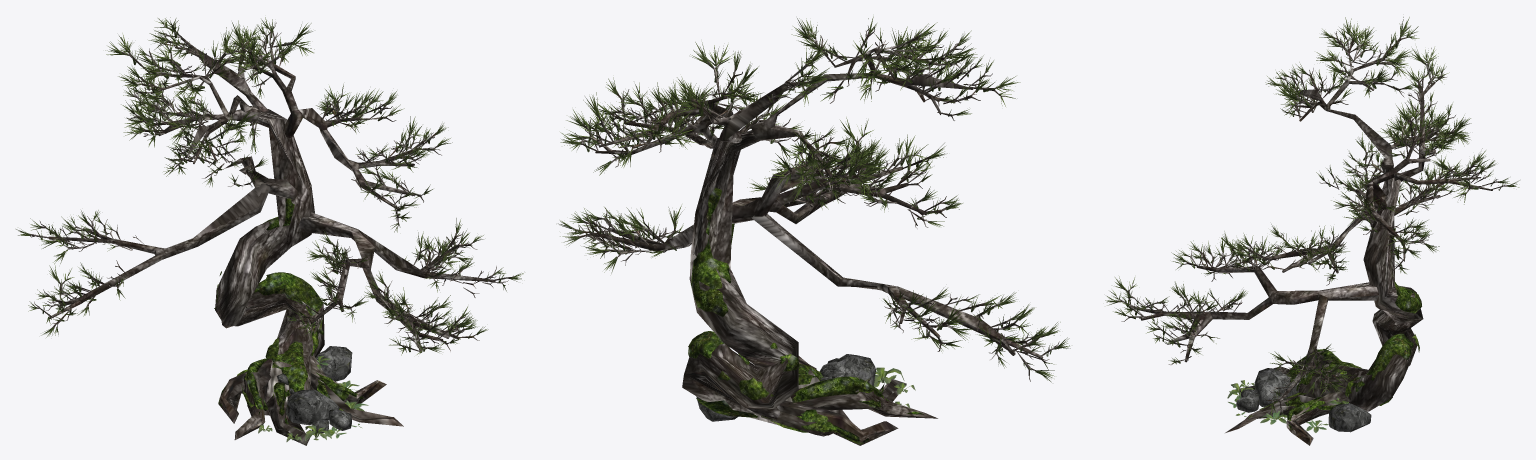
The model's file is pino.glb.
The picture shows the model from 3 angles, left to right: view 1: azimuth 30°, elevation 25°; view 2: azimuth 150°, elevation 25°; view 3: azimuth 270°, elevation 25°; orthographic projection. The views are drawn at different scales.
Visible parts, largest first — view 1: Pine.Shape_Pine_0 (×2), Pine.Shape_Leaves_0 (×2), Pine.Shape_Moss_0, Pine.Shape_Stone_0, Pine.Shape_Weeds_0; view 2: Pine.Shape_Pine_0 (×2), Pine.Shape_Leaves_0 (×2), Pine.Shape_Moss_0, Pine.Shape_Stone_0; view 3: Pine.Shape_Pine_0 (×2), Pine.Shape_Leaves_0 (×2), Pine.Shape_Moss_0, Pine.Shape_Stone_0, Pine.Shape_Weeds_0.
Part boxes in pixels (bbox=[...]): Pine.Shape_Pine_0 (×2): bbox=[29, 22, 513, 445]; Pine.Shape_Leaves_0 (×2): bbox=[16, 17, 523, 355]; Pine.Shape_Moss_0: bbox=[214, 177, 363, 430]; Pine.Shape_Stone_0: bbox=[276, 346, 352, 433]; Pine.Shape_Weeds_0: bbox=[258, 356, 368, 441]; Pine.Shape_Pine_0 (×2): bbox=[571, 27, 1060, 445]; Pine.Shape_Leaves_0 (×2): bbox=[558, 16, 1070, 382]; Pine.Shape_Moss_0: bbox=[688, 188, 923, 444]; Pine.Shape_Stone_0: bbox=[696, 354, 876, 421]; Pine.Shape_Pine_0 (×2): bbox=[1116, 30, 1509, 445]; Pine.Shape_Leaves_0 (×2): bbox=[1105, 17, 1519, 419]; Pine.Shape_Moss_0: bbox=[1248, 228, 1421, 429]; Pine.Shape_Stone_0: bbox=[1236, 368, 1371, 432]; Pine.Shape_Weeds_0: bbox=[1227, 380, 1348, 432].
Bounding box in the file's own units: 12.88 × 10 × 11.39.
6 materials, 6 textured.
